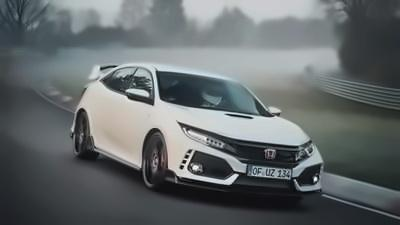Car hood: (159, 100, 312, 148)
Driver-s door - -F-R-: (106, 61, 158, 169)
Fender - -F-R-: (135, 100, 184, 174)
Front bumper: (160, 131, 325, 204)
Headlight - -L-: (293, 139, 317, 164)
Headlight - -R-: (176, 120, 239, 155)
Passenger-s door - -R-R-: (83, 60, 141, 160)
Side bumper - -R-: (85, 134, 145, 179)
Side mirror - -L-: (266, 106, 283, 117)
Side mirror - -R-: (125, 88, 156, 107)
